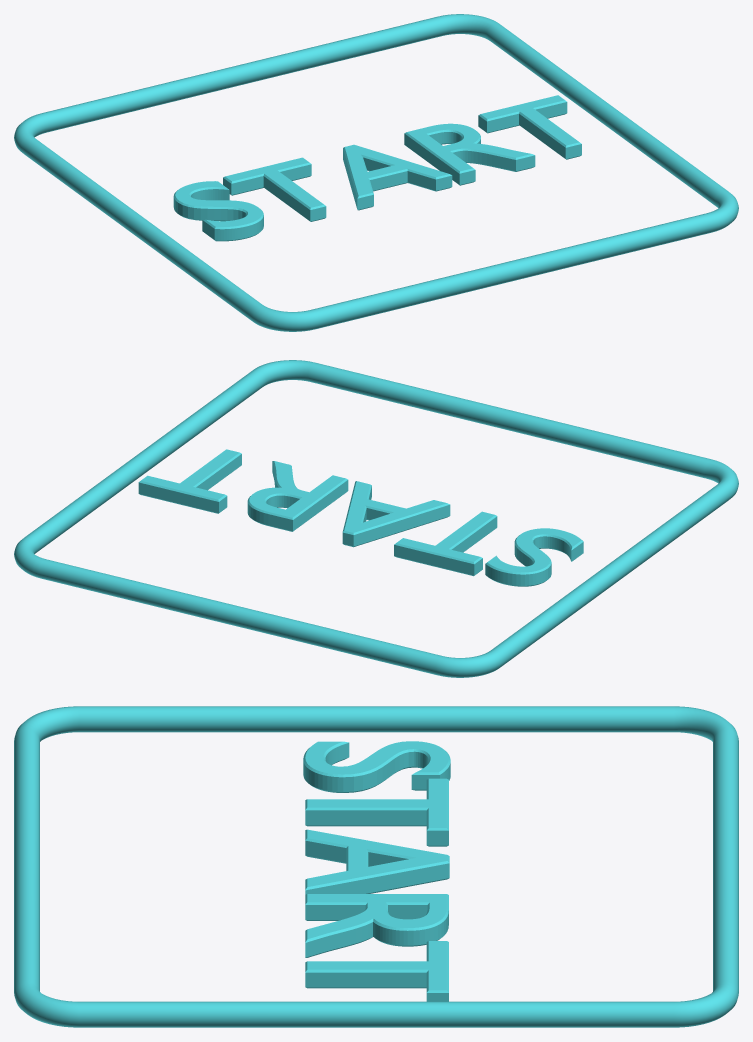
Rendered from Masu_Start.fbx.
The picture shows the model from 3 angles, top to bottom: view 1: azimuth 30°, elevation 25°; view 2: azimuth 150°, elevation 25°; view 3: azimuth 270°, elevation 25°; orthographic projection. The views are drawn at different scales.
Visible parts, largest first — view 1: Torus, Text; view 2: Torus, Text; view 3: Torus, Text.
Part boxes in pixels (x1,y1,x2,y2): Torus: (14,14,738,331); Text: (173,95,581,241); Torus: (14,360,738,677); Text: (138,449,583,586); Torus: (14,706,738,1027); Text: (303,741,450,1001).
Bounding box in the file's own units: 487 × 17.5 × 487.
